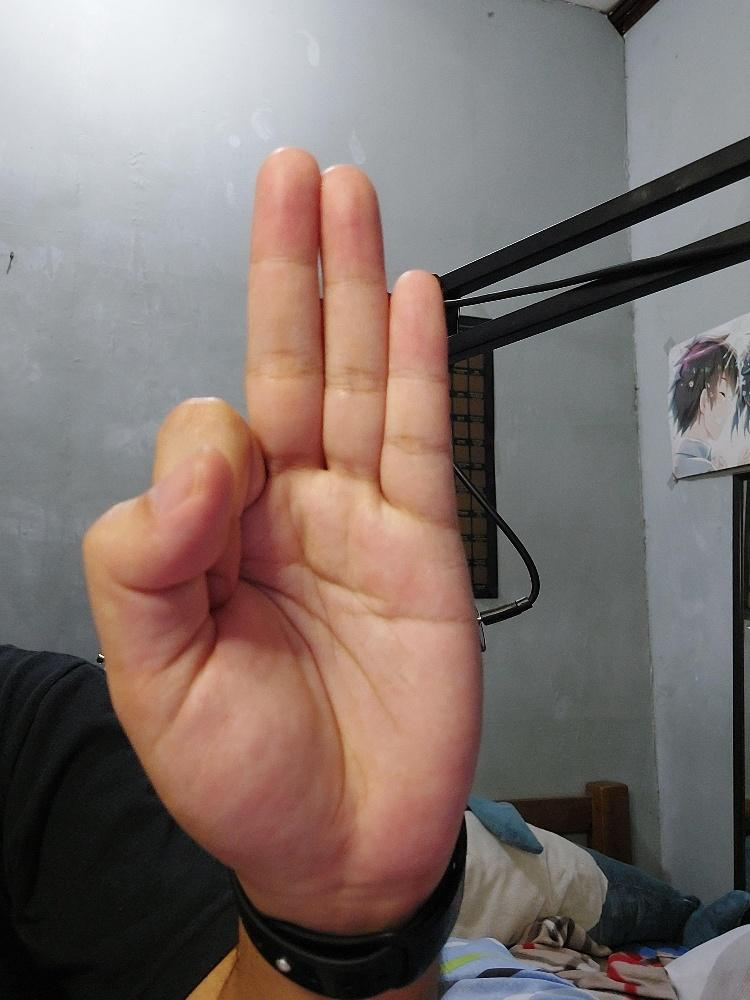f: (80, 142, 481, 880)
